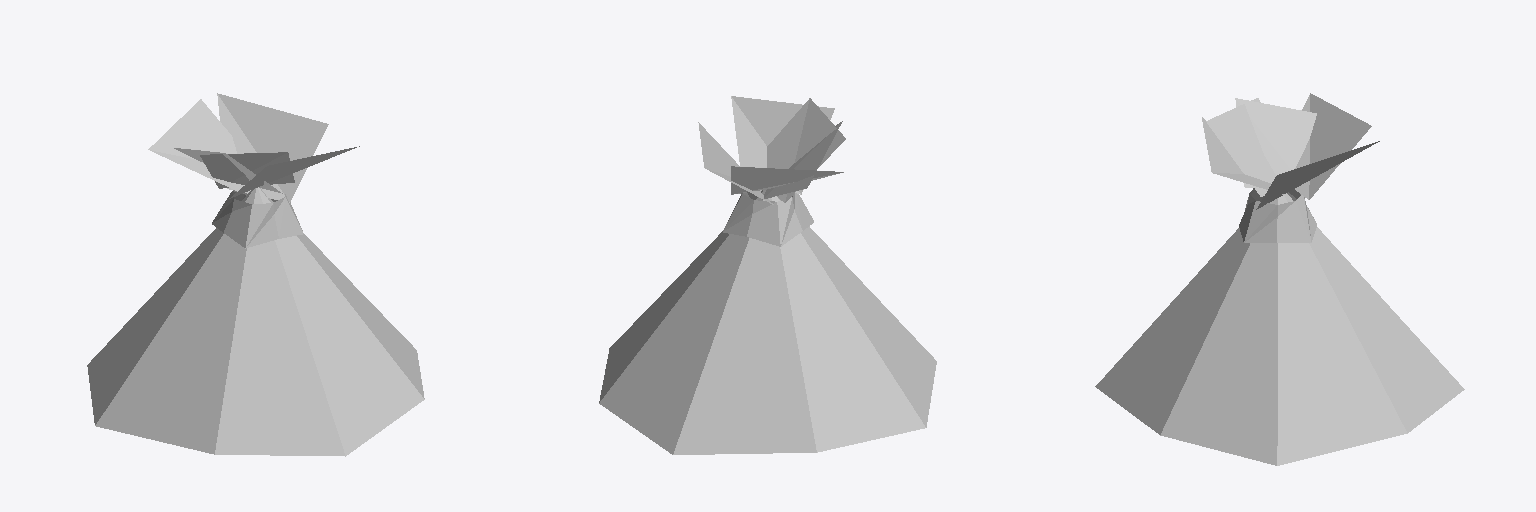
File: hay00.obj
3 renders of one model, left to right at view 1: azimuth 30°, elevation 25°; view 2: azimuth 150°, elevation 25°; view 3: azimuth 270°, elevation 25°, orthographic.
Parts seen in each view (by area): view 1: Hay0; view 2: Hay0; view 3: Hay0.
Boxes of the visible parts, <box> form: Hay0: <box>87,93,424,456</box>; Hay0: <box>599,96,936,454</box>; Hay0: <box>1095,93,1464,465</box>.
Bounding box in the file's own units: 5.49 × 4.34 × 5.5.